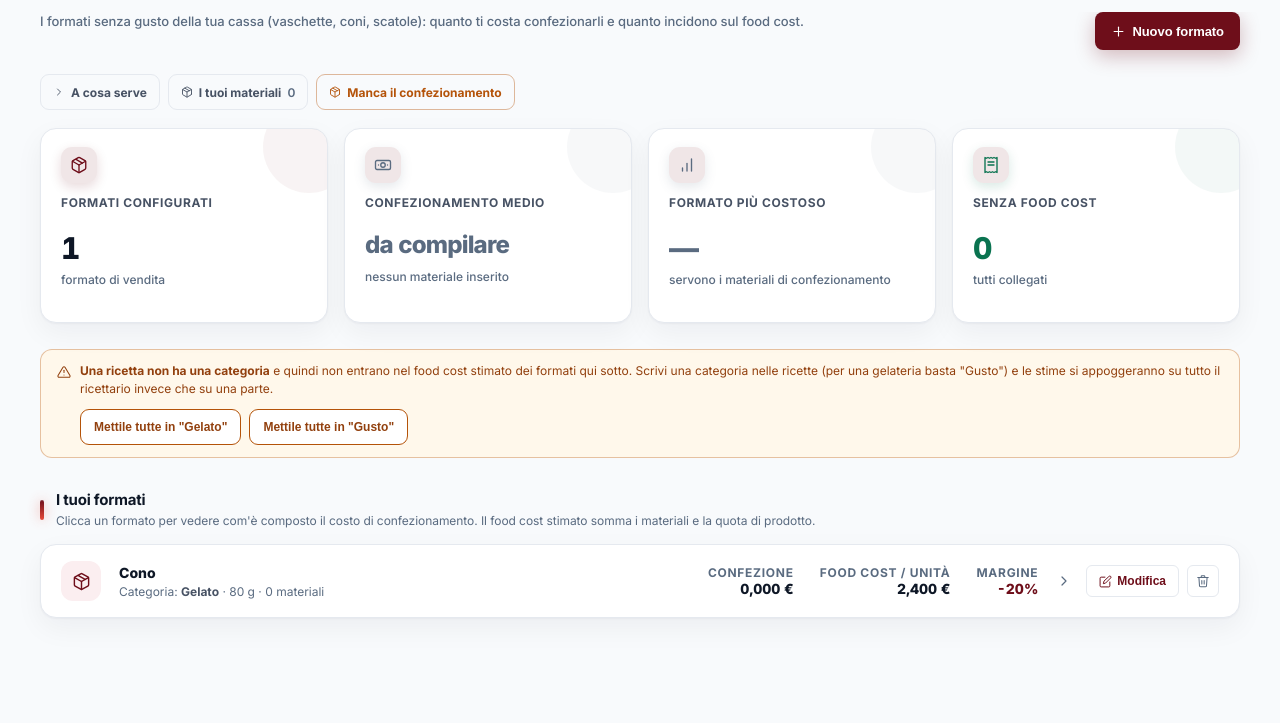
Test: Le righe si aprono da tastiera, non solo col dito › e l'etichetta dice se la riga è aperta o chiusa
Click the button with aria-label "Cono: apri il dettaglio del costo" at x=81, y=581, box [61,561,1072,601]
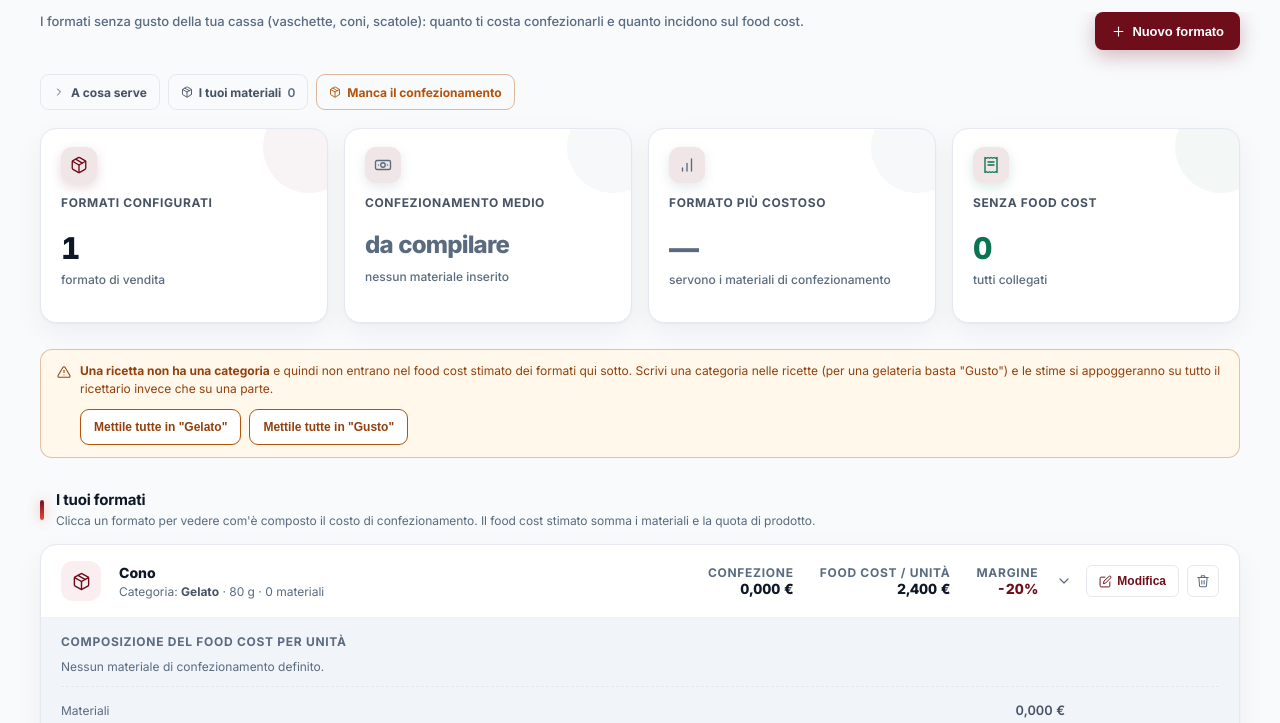
Check: the button with aria-label "Cono: chiudi il dettaglio del costo" is expanded, box [61,561,1072,601]
